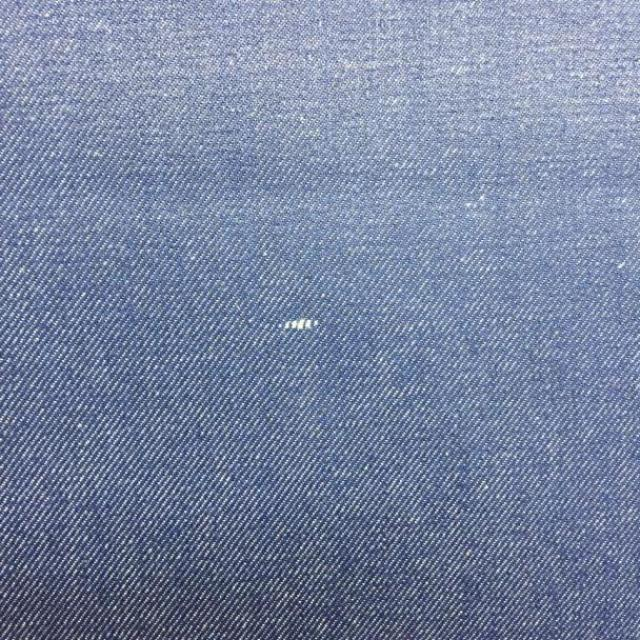Knot: (283, 321, 319, 330)
